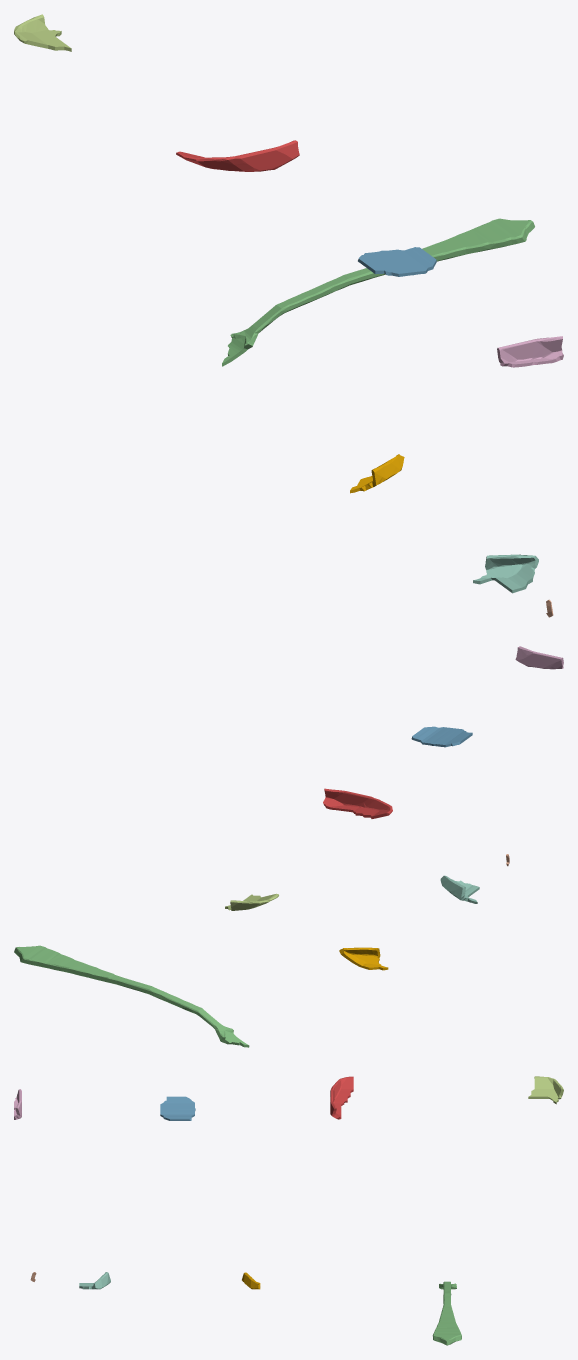
Rendered from mode_13_8pcs_transformed.glb.
3 views of the same model, one above another, from view 1: azimuth 30°, elevation 25°; view 2: azimuth 150°, elevation 25°; view 3: azimuth 270°, elevation 25° (orthographic). The views are drawn at different scales.
Parts seen in each view (by area): view 1: piece_3.obj, piece_1.obj, piece_2.obj, piece_4.obj, piece_6.obj, piece_5.obj, piece_0.obj; view 2: piece_3.obj, piece_1.obj, piece_2.obj, piece_0.obj, piece_6.obj, piece_4.obj, piece_5.obj; view 3: piece_3.obj, piece_2.obj, piece_1.obj, piece_5.obj.
Boxes of the visible parts, x1,y1,x2,y2 form: piece_3.obj: (222, 218, 534, 366); piece_1.obj: (176, 140, 299, 171); piece_2.obj: (358, 247, 436, 276); piece_4.obj: (473, 554, 538, 593); piece_6.obj: (497, 336, 563, 367); piece_5.obj: (14, 14, 71, 51); piece_0.obj: (350, 454, 404, 493); piece_3.obj: (14, 945, 249, 1047); piece_1.obj: (323, 788, 392, 818); piece_2.obj: (411, 726, 472, 747); piece_0.obj: (339, 947, 388, 970); piece_6.obj: (515, 646, 563, 669); piece_4.obj: (440, 875, 479, 903); piece_5.obj: (225, 893, 278, 910); piece_3.obj: (432, 1281, 461, 1345); piece_2.obj: (160, 1096, 195, 1120); piece_1.obj: (330, 1076, 353, 1119); piece_5.obj: (528, 1076, 563, 1104).
Size of the model in its own units: 1 by 0.6535 by 1.83.
